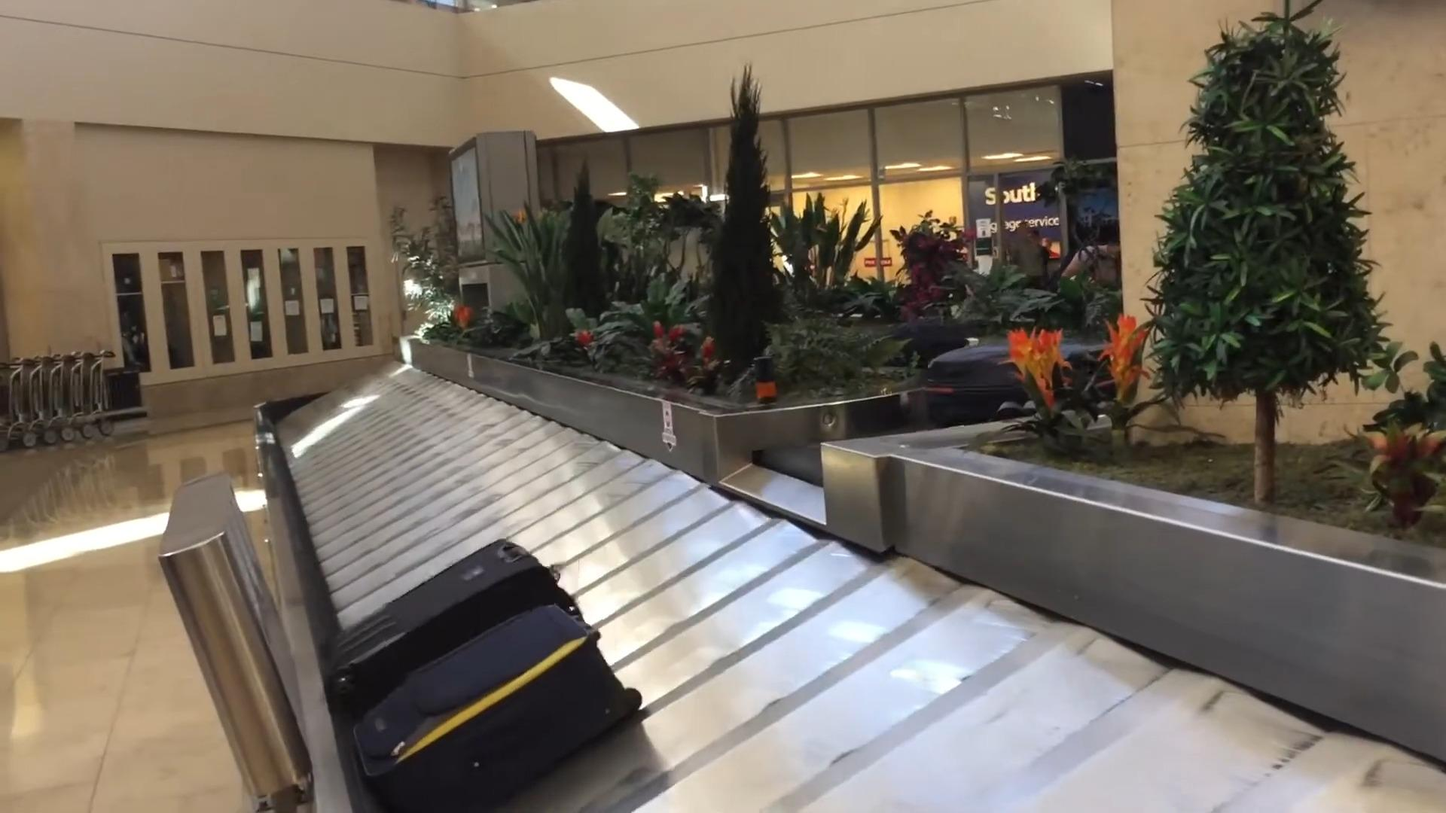luggage: (353, 598, 646, 813), (319, 536, 579, 714), (927, 325, 1118, 422)
